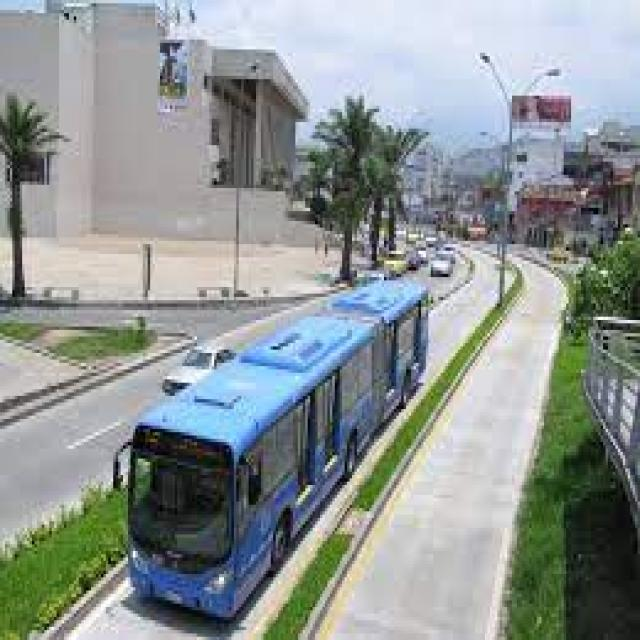BUS: (121, 414, 262, 614)
